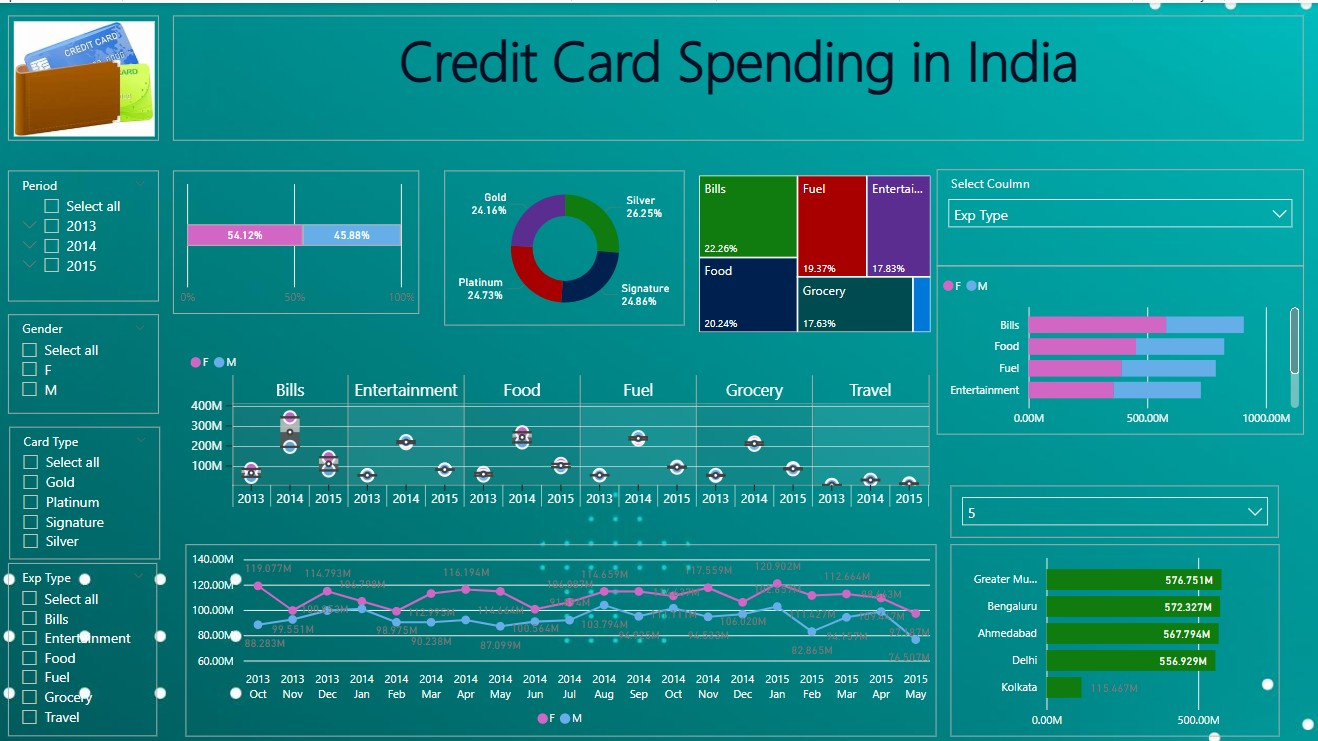

The dashboard page shown, as its layout file describes it:
{"tool":"powerbi","page":{"name":"Page 1","canvas":[1280,720],"ordinal":0},"visuals":[{"type":"textbox","box":[168.8,12.3,1090.9,120.8],"z":0},{"type":"image","box":[9.7,12.1,146,120.6],"z":1000},{"type":"slicer","fields":{"Values":["Date_Table.Date.Variation.Date Hierarchy.Year","Date_Table.Date.Variation.Date Hierarchy.Month"]},"box":[9.6,161.9,145.5,126.2],"z":2000},{"type":"slicer","fields":{"Values":["Data.Gender"]},"box":[9.3,300,145.3,96],"z":3000},{"type":"slicer","fields":{"Values":["Data.Card Type"]},"box":[10.7,409.3,145.3,128],"z":4000},{"type":"slicer","fields":{"Values":["Data.Exp Type"]},"box":[9.6,540.7,144.1,167.4],"z":5000},{"type":"hundredPercentStackedBarChart","fields":{"Y":["Data.Transaction Amount"],"Series":["Data.Gender"]},"box":[169.3,161.3,237.3,138.7],"z":6000},{"type":"donutChart","fields":{"Category":["Data.Card Type"],"Y":["Data.Transaction Amount"]},"box":[430.7,161.3,232,149.3],"z":7000},{"type":"treemap","fields":{"Group":["Data.Exp Type"],"Values":["Data.Transaction Amount"]},"box":[672,161.3,233.3,161.3],"z":8000},{"type":"lineChart","fields":{"Category":["Date_Table.Year","Date_Table.Month Name"],"Series":["Data.Gender"],"Y":["Data.Transaction Amount"]},"box":[181.1,522.8,724.5,185.2],"z":9000},{"type":"BoxandWhiskerByMAQ1823AD39DT234AB532063E128AX","fields":{"categoryGroup":["Date_Table.Year","Date_Table.Month Number"],"xCategoryParent":["Data.Exp Type"],"measure":["Data.Transaction Amount"],"categoryColor":["Data.Gender"]},"box":[181.1,328,724.5,163.3],"z":10000},{"type":"slicer","fields":{"Values":["Select Coulmn.Select Coulmn"]},"box":[905.7,160.5,354,93.3],"z":11000},{"type":"barChart","fields":{"Category":["Data.Exp Type"],"Y":["Data.Transaction Amount"],"Series":["Data.Gender"]},"box":[905.7,253.9,354,163.3],"z":12000},{"type":"slicer","fields":{"Values":["Top N.Top N"]},"box":[919.4,465.2,317,50.8],"z":13000},{"type":"barChart","fields":{"Category":["Data.City"],"Y":["Data.Top N City"]},"box":[919.3,522.4,317.3,185.8],"z":14000}]}

Visuals, with their boxes in screenshot pixels (x1, y1, x2, y2), scaled from the page's 1280x720 canvas onto the 1318x741 screenshot:
textbox: x1=174 y1=13 x2=1297 y2=137
image: x1=10 y1=12 x2=160 y2=137
slicer - Date_Table.Date.Variation.Date Hierarchy.Year x Date_Table.Date.Variation.Date Hierarchy.Month: x1=10 y1=167 x2=160 y2=297
slicer - Data.Gender: x1=10 y1=309 x2=159 y2=408
slicer - Data.Card Type: x1=11 y1=421 x2=161 y2=553
slicer - Data.Exp Type: x1=10 y1=556 x2=158 y2=729
hundredPercentStackedBarChart - Data.Transaction Amount x Data.Gender: x1=174 y1=166 x2=419 y2=309
donutChart - Data.Card Type x Data.Transaction Amount: x1=443 y1=166 x2=682 y2=320
treemap - Data.Exp Type x Data.Transaction Amount: x1=692 y1=166 x2=932 y2=332
lineChart - Date_Table.Year x Date_Table.Month Name: x1=186 y1=538 x2=932 y2=729
BoxandWhiskerByMAQ1823AD39DT234AB532063E128AX - Date_Table.Year x Date_Table.Month Number: x1=186 y1=338 x2=932 y2=506
slicer - Select Coulmn.Select Coulmn: x1=933 y1=165 x2=1297 y2=261
barChart - Data.Exp Type x Data.Transaction Amount: x1=933 y1=261 x2=1297 y2=429
slicer - Top N.Top N: x1=947 y1=479 x2=1273 y2=531
barChart - Data.City x Data.Top N City: x1=947 y1=538 x2=1273 y2=729
